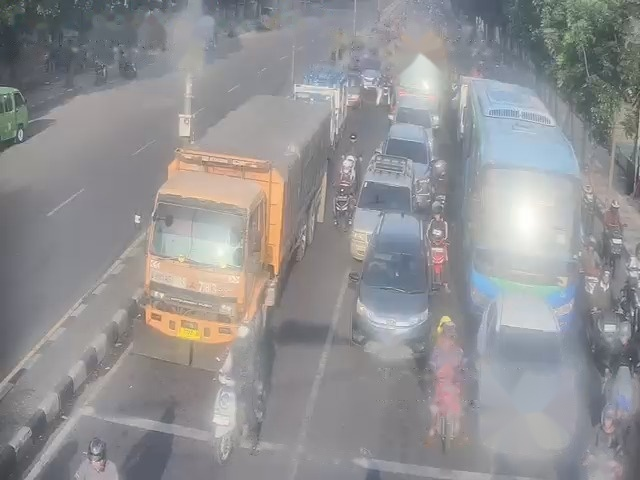Bis: (466, 80, 583, 313)
Mobil: (358, 217, 434, 351), (355, 149, 410, 220)
Motor: (199, 377, 239, 443), (436, 369, 461, 434), (582, 441, 615, 480), (586, 268, 607, 317), (327, 181, 353, 218), (594, 321, 619, 352), (429, 237, 446, 274), (608, 232, 622, 270)
Truk: (148, 94, 332, 353)
